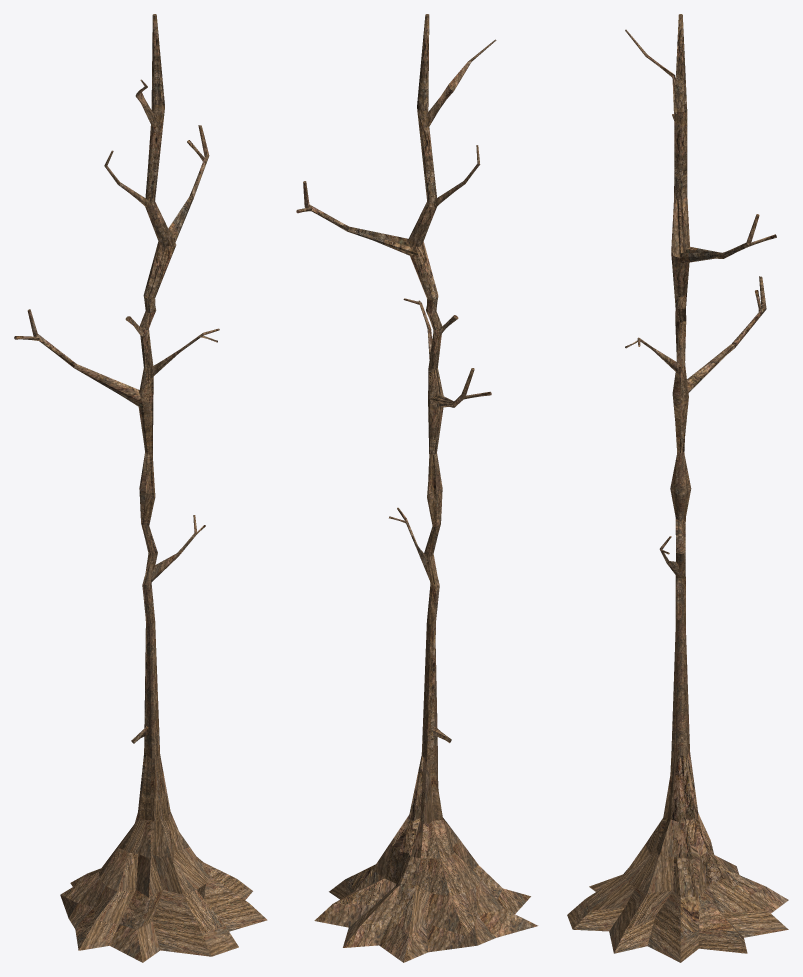
File: trunk5.glb
3 renders of one model, left to right at view 1: azimuth 30°, elevation 25°; view 2: azimuth 150°, elevation 25°; view 3: azimuth 270°, elevation 25°, orthographic.
Visible parts, largest first — view 1: trunk5; view 2: trunk5; view 3: trunk5.
Part boxes in pixels (x1,y1,x2,y2): trunk5: (14, 14, 267, 962); trunk5: (296, 14, 538, 962); trunk5: (567, 14, 788, 962).
Size of what is drawn, in the model's own units: 18.65 by 80 by 17.87.
1 material, 1 textured.
